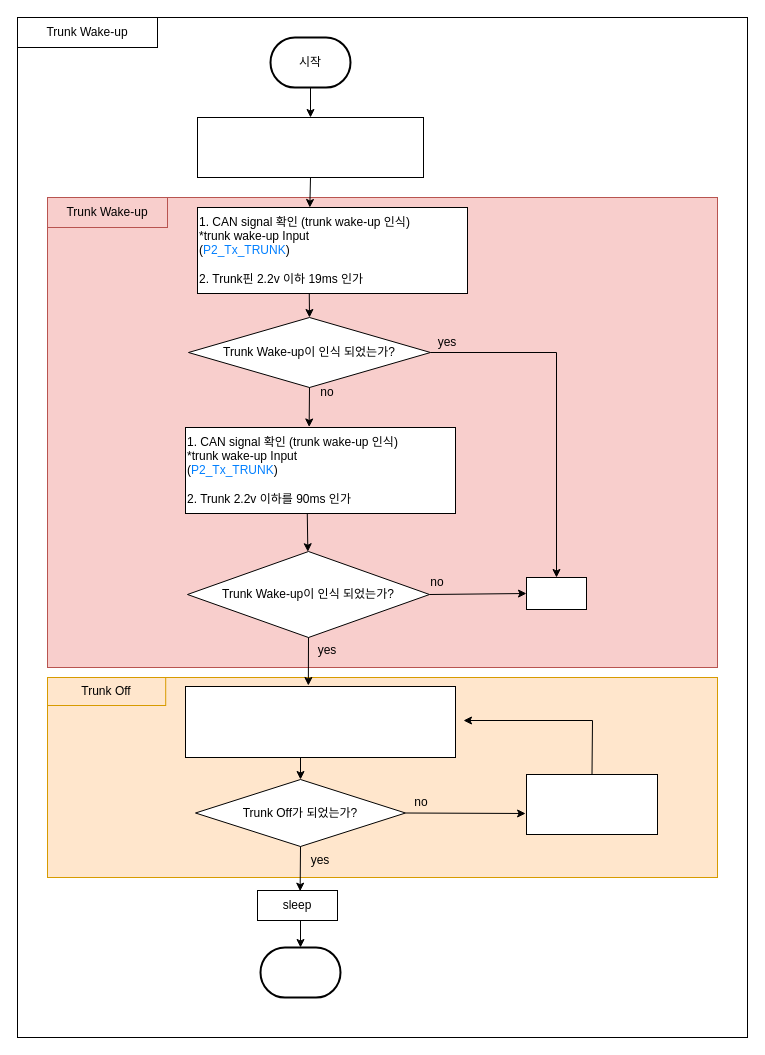
Image size: 765x1055. Some labels were removed from this diagram. The centre of each missing label's shape, as x and y in pixels:
CAN signal 확인 (trunk wake-up 인식) *trunk wake-up Input ( P2_Tx_TRUNK ): the point at 320,722
NG: the point at 556,593
Trunk = 13.8v 이상: the point at 592,804
전압 인가 - B+BATT, LATCH SEN, B+LDC = 13.8V: the point at 310,147
종료: the point at 300,972
